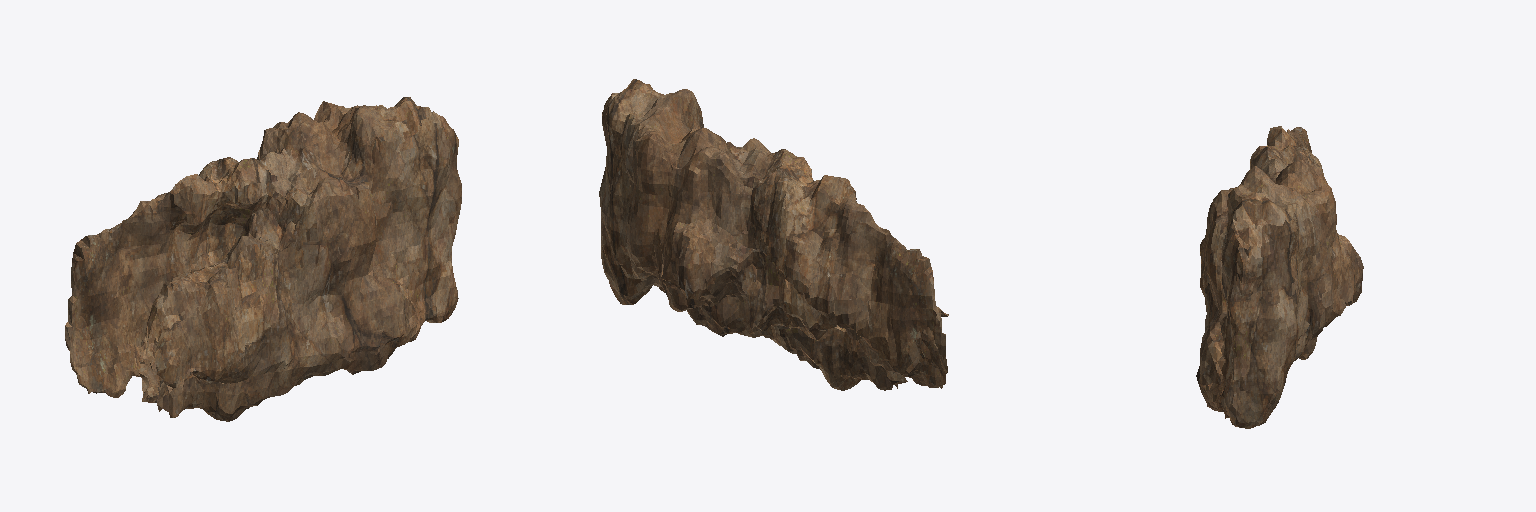
3 renders of one model, left to right at view 1: azimuth 30°, elevation 25°; view 2: azimuth 150°, elevation 25°; view 3: azimuth 270°, elevation 25°, orthographic.
Visible parts, largest first — view 1: rock6; view 2: rock6; view 3: rock6.
Boxes of the visible parts, x1=… form: rock6: x1=65, y1=97, x2=461, y2=421; rock6: x1=599, y1=79, x2=948, y2=390; rock6: x1=1196, y1=126, x2=1363, y2=428.
Bounding box in the file's own units: 73.4 × 51.25 × 28.83.
Materials: 1 (1 with a texture image).